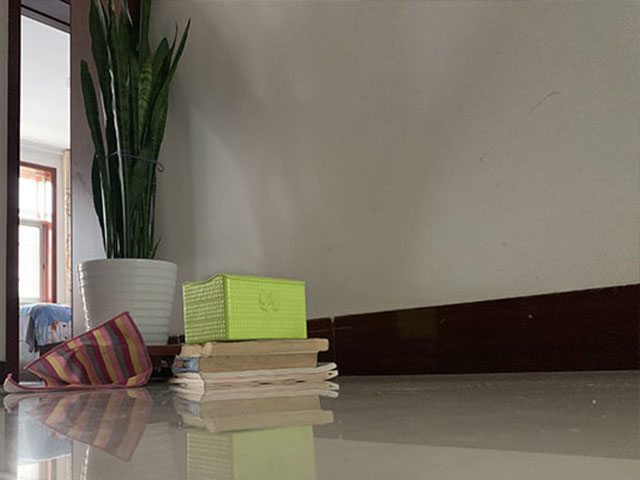book: (173, 341, 339, 397)
